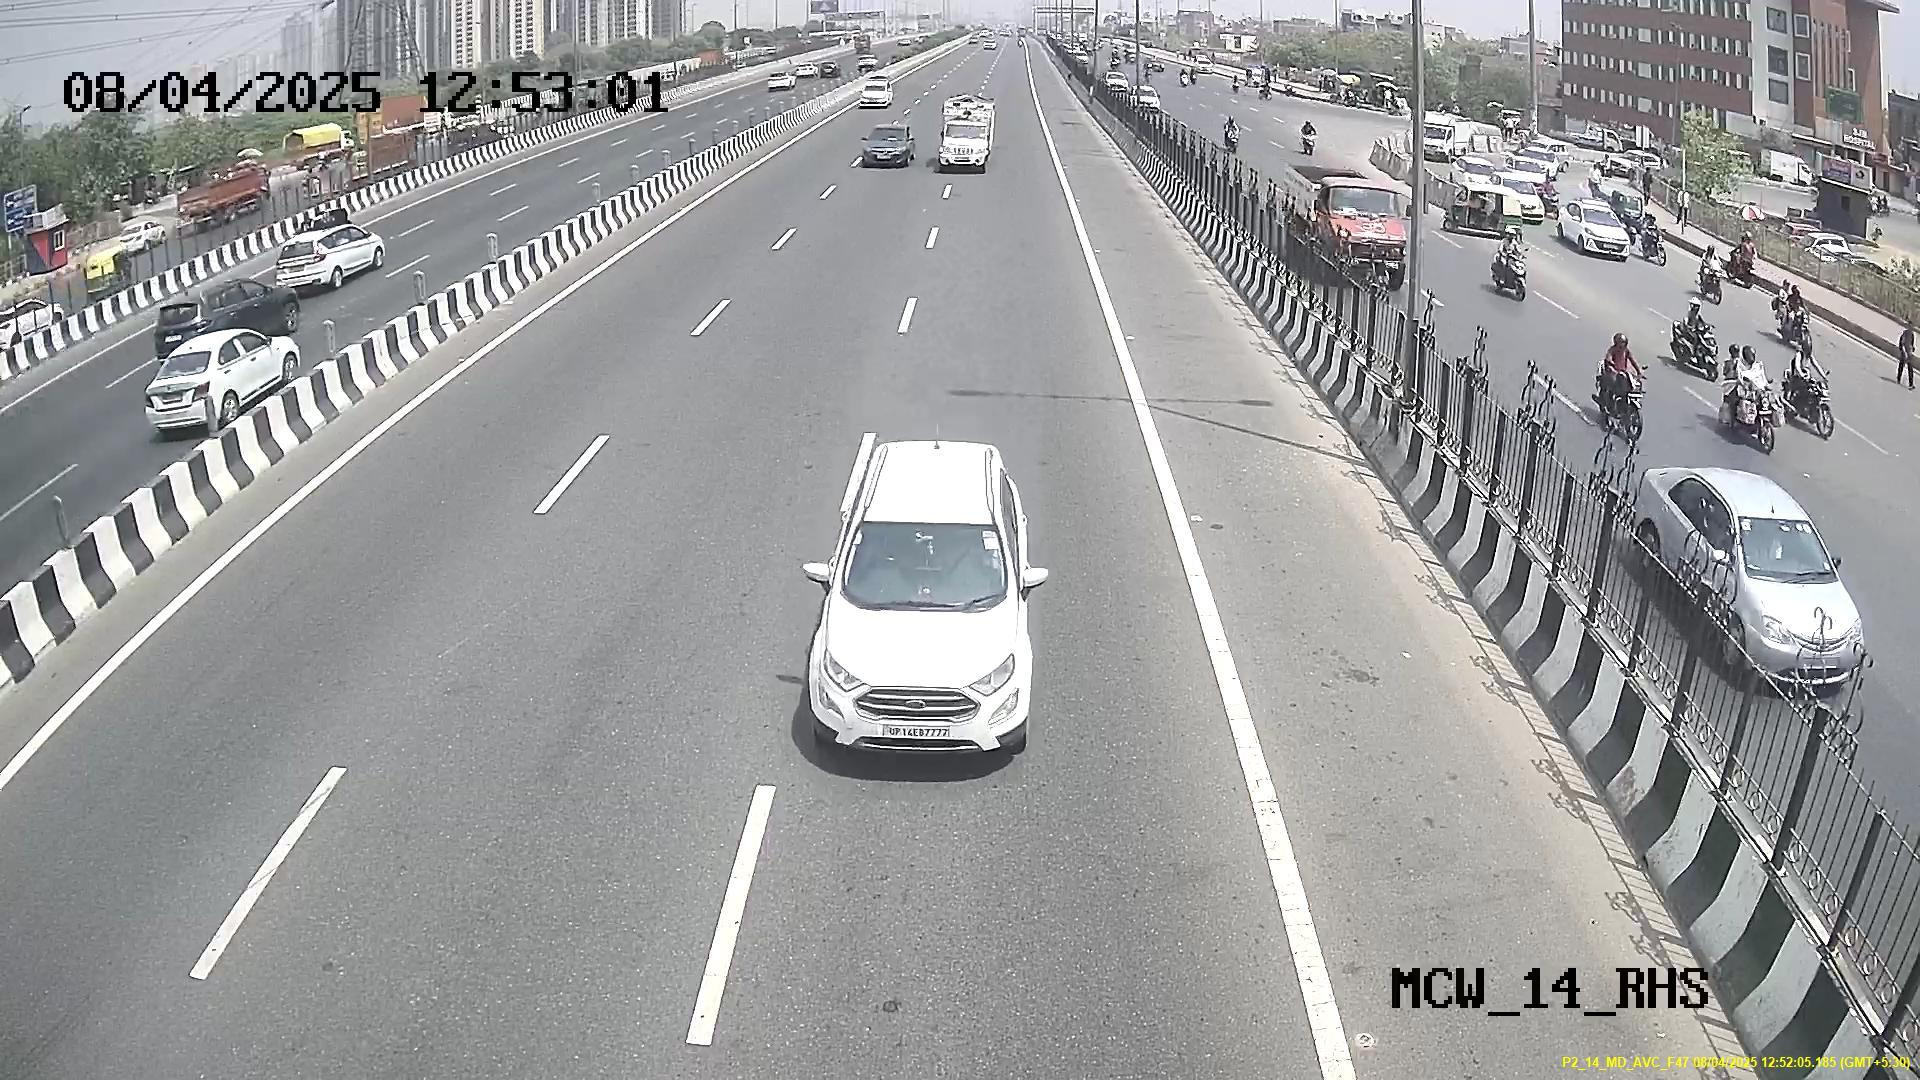car: (804, 491, 1039, 761), (940, 99, 1000, 171), (856, 117, 920, 174)
